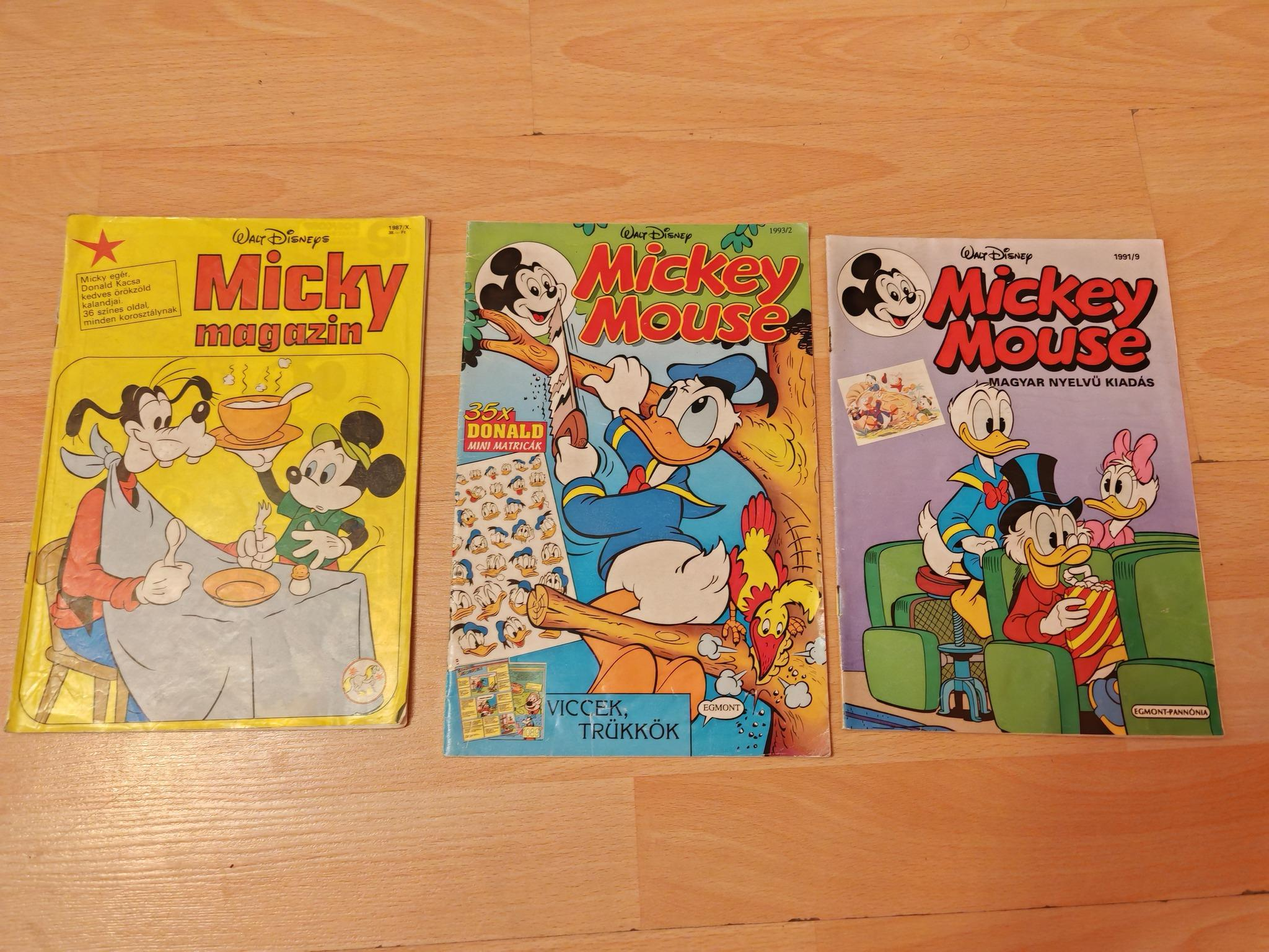comic: (8, 202, 427, 745), (826, 223, 1221, 747), (445, 222, 830, 755)
